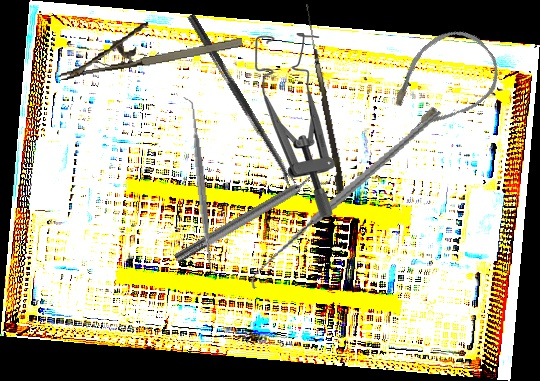Cannula: (373, 16, 512, 149)
Fixation Ring: (168, 159, 334, 270)
Hook Surgical: (224, 110, 469, 290), (297, 4, 350, 203)
Needle Holder: (52, 8, 244, 81)
Spatula Surgical: (182, 95, 220, 276)
Speculum: (254, 33, 335, 217)
Surgical Spoon: (186, 13, 296, 188)
